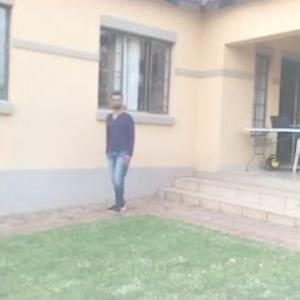follow: (103, 86, 143, 219)
